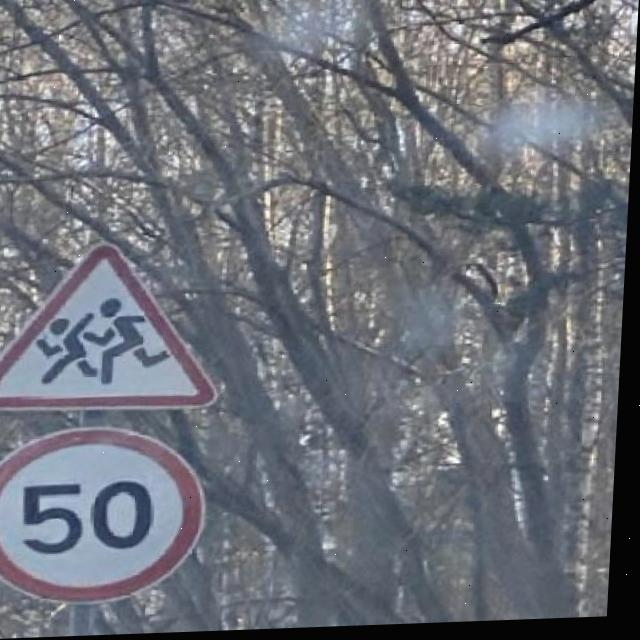Speed limit 50: (1, 421, 219, 610)
